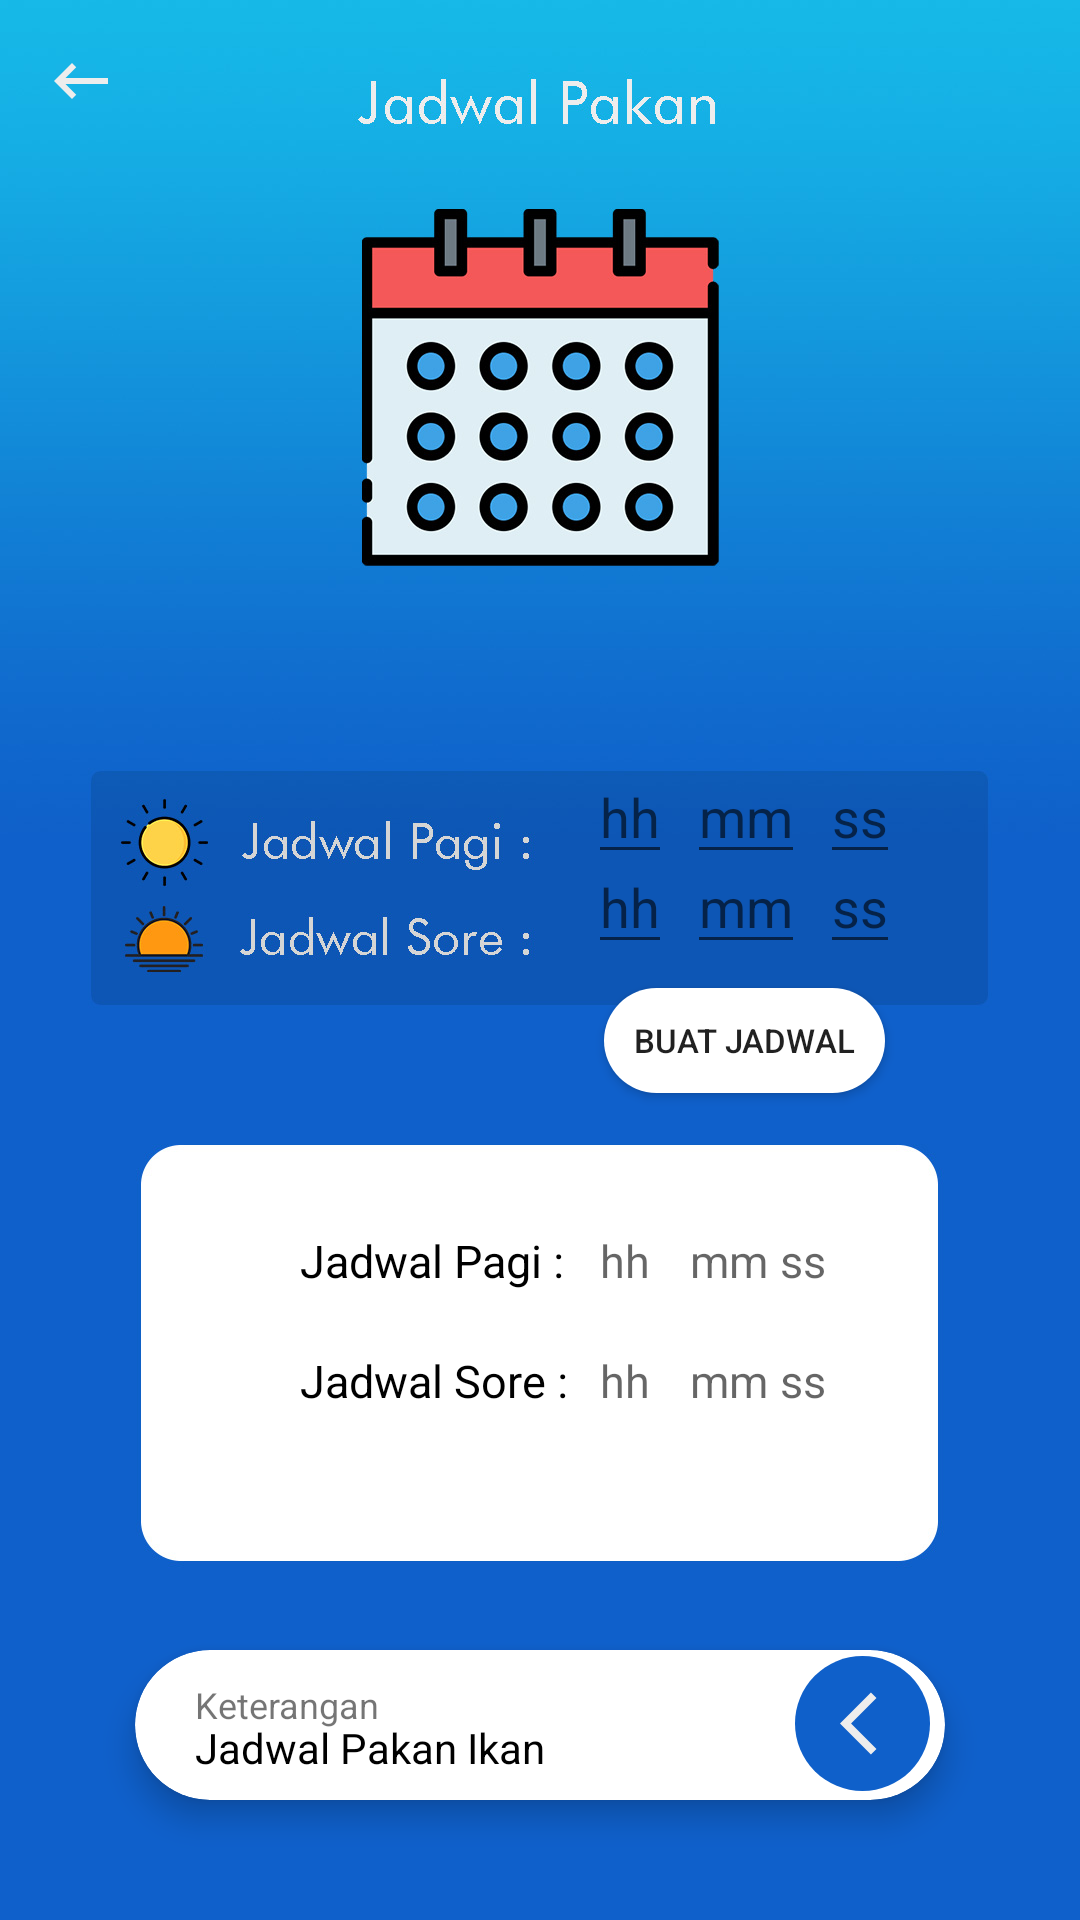

Named icons in this screenshot (1080w x 1920h) and their bounding boxes, region(x1, y1, x2, y2):
kembali putih: region(54, 63, 108, 99)
